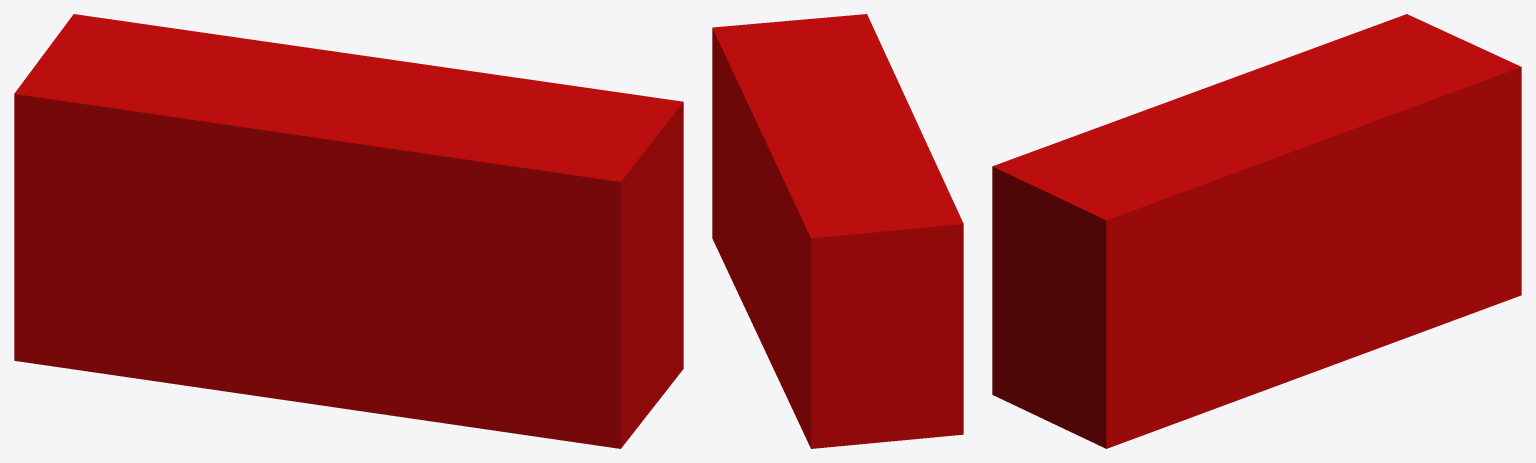
The model's file is right_gripper_6_collision.dae.
3 renders of one model, left to right at view 1: azimuth 30°, elevation 25°; view 2: azimuth 150°, elevation 25°; view 3: azimuth 270°, elevation 25°, orthographic. The views are drawn at different scales.
Parts seen in each view (by area): view 1: right_gripper_6_collision; view 2: right_gripper_6_collision; view 3: right_gripper_6_collision.
Part boxes in pixels (x1,y1,x2,y2): right_gripper_6_collision: (14, 14, 683, 448); right_gripper_6_collision: (712, 14, 963, 448); right_gripper_6_collision: (992, 14, 1521, 448).
Bounding box in the file's own units: 0.0293 × 0.0318 × 0.0151.
